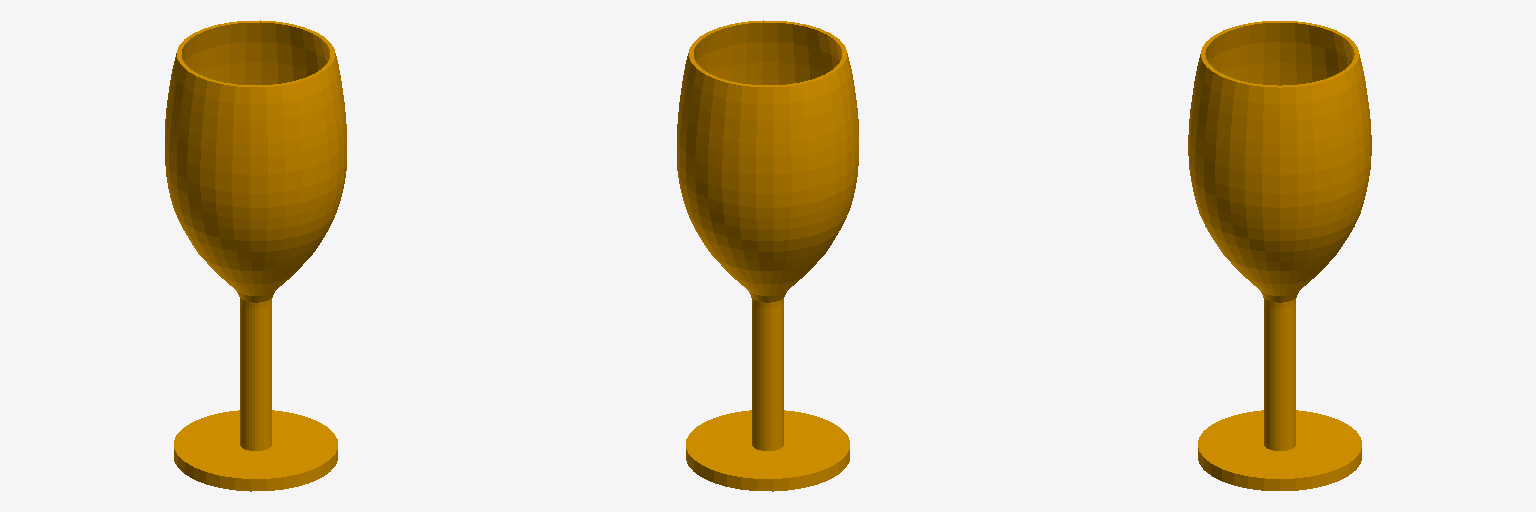
The robot description file, URDF, robot "object":
<?xml version="1.0"?>
<robot name="object">
  <link name="object">
    <visual>
      <origin xyz="0.0 0.0 0.0"/>
      <geometry>
        <mesh filename="wine_glass.stl" scale="1.00 1.00 1.00"/>
      </geometry>
    </visual>
    <collision>
      <origin xyz="0.0 0.0 0.0"/>
      <geometry>
        <mesh filename="wine_glass.stl" scale="1.00 1.00 1.00"/>
      </geometry>
    </collision>
  </link>
</robot>
    
                    

--- What the picture shows (computed from the rendered views, not written in the file) ---
The picture shows the robot from 3 angles, left to right: view 1: azimuth 30°, elevation 25°; view 2: azimuth 150°, elevation 25°; view 3: azimuth 270°, elevation 25°; orthographic projection.
Robot: object — 1 links, 0 joints (none); root link object; default pose: every joint at zero.
Links seen in each view (by area): view 1: object; view 2: object; view 3: object.
Link boxes in pixels (<box>): object: <box>165,20,346,491</box>; object: <box>677,20,858,491</box>; object: <box>1188,21,1371,490</box>.
Size in the robot's own frame: 0.0709 by 0.0709 by 0.172 metres.
Meshes: 1 distinct files referenced, 1 mesh visuals loaded (1 binary STL).
